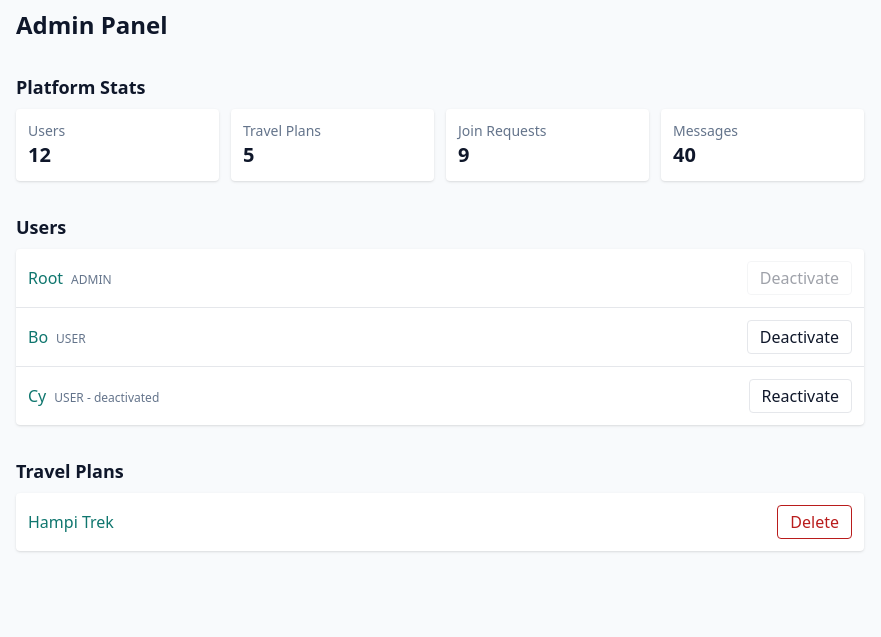
AdminDashboard › shows_the_server_error_when_a_toggle_fails
Step 1. Click the button with aria-label "Deactivate Bo" → point(799, 337), box x1=747 y1=320 x2=852 y2=354
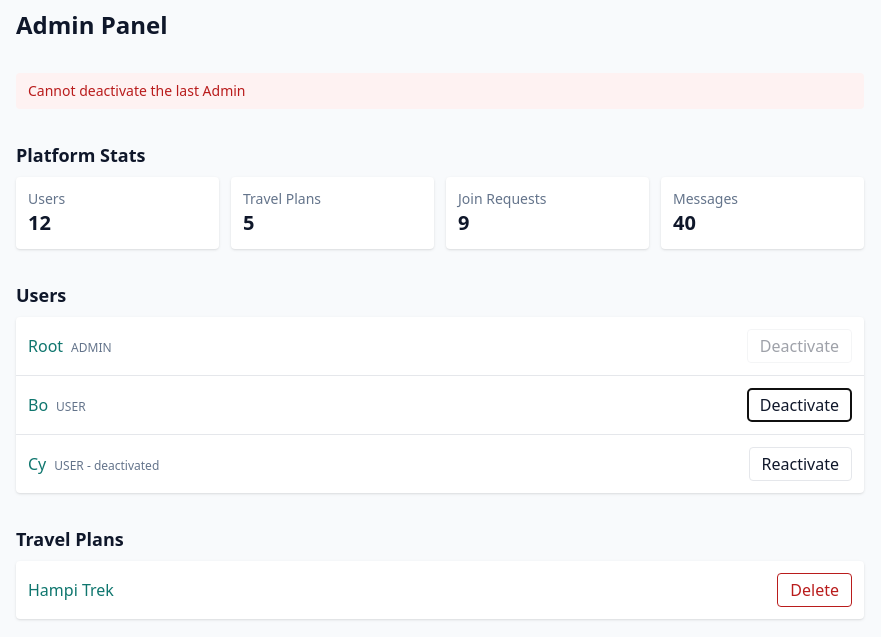
Expected: the message shows "last Admin", x1=28 y1=81 x2=246 y2=100
